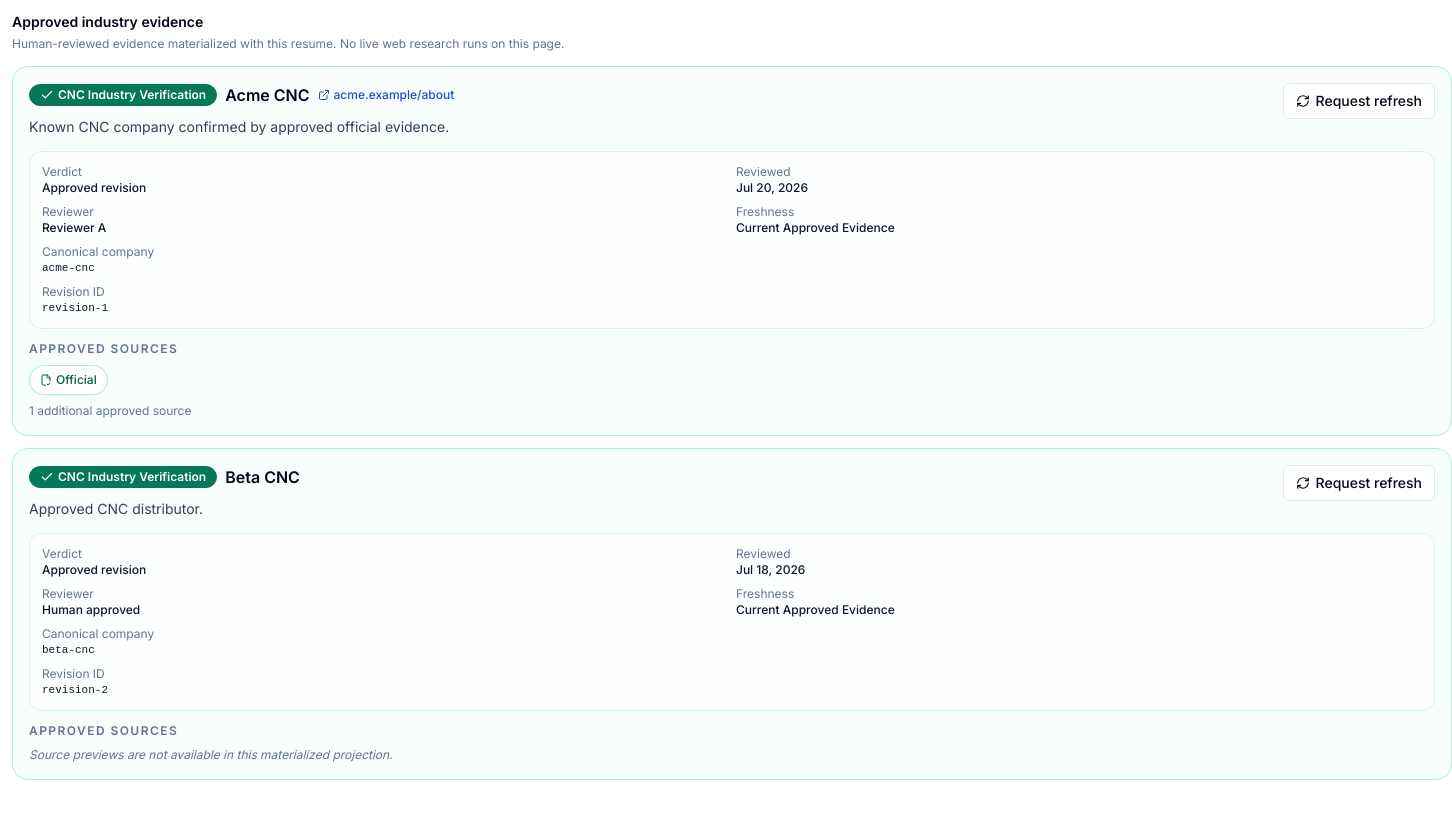
it: IndustryEvidenceDetail › shows full materialized approved evidence and requests a coalesced refresh
Expected: the text "Approved revision" is shown 2 times, [42,180,146,195]; [42,562,146,577]
Expected: the text "Reviewer A" is shown, [42,220,106,235]
Click the button with aria-label "Request refresh for Acme CNC". click: {"x": 1359, "y": 101}
box: [1282,83,1435,119]
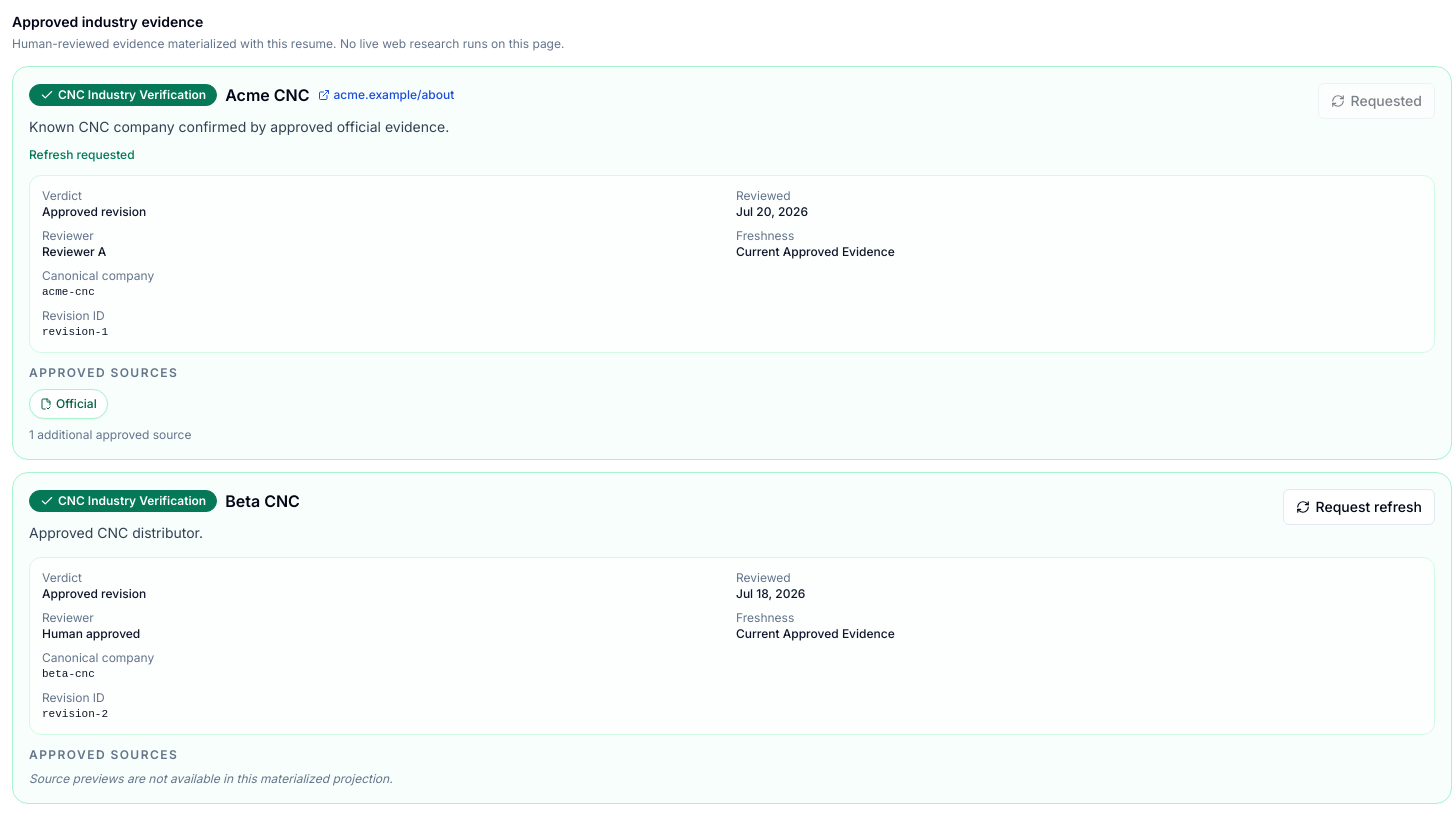
Now the text "Refresh requested" is shown, box [29,147,135,162]
